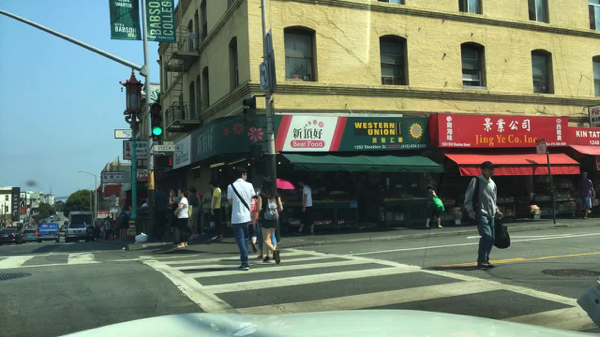car: (65, 220, 88, 242), (39, 221, 60, 243), (0, 229, 21, 246), (21, 228, 39, 243), (87, 225, 96, 240), (60, 226, 68, 232), (58, 231, 66, 237), (48, 215, 55, 220), (64, 221, 69, 225), (57, 217, 61, 221)
person: (462, 161, 504, 270), (225, 168, 256, 270), (256, 176, 282, 266), (254, 177, 281, 254), (291, 177, 316, 239), (422, 183, 445, 230), (573, 169, 593, 220), (167, 187, 183, 247), (175, 188, 191, 248), (209, 180, 223, 242), (187, 187, 201, 239), (197, 191, 206, 236), (105, 211, 113, 239), (116, 217, 120, 238), (100, 222, 104, 237)
traffic light: (150, 102, 164, 141), (154, 155, 173, 167)
traffic sign: (266, 54, 277, 93), (266, 29, 272, 55), (154, 146, 183, 151), (536, 140, 545, 156)
truck: (66, 211, 94, 224)
